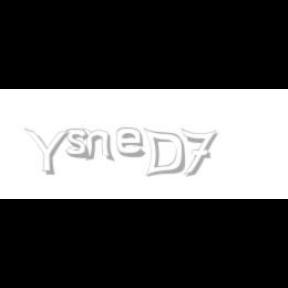7: (180, 128, 217, 178)
D: (142, 128, 186, 178)
Y: (24, 128, 70, 176)
e: (116, 128, 150, 158)
n: (82, 128, 116, 162)
s: (66, 128, 94, 160)
